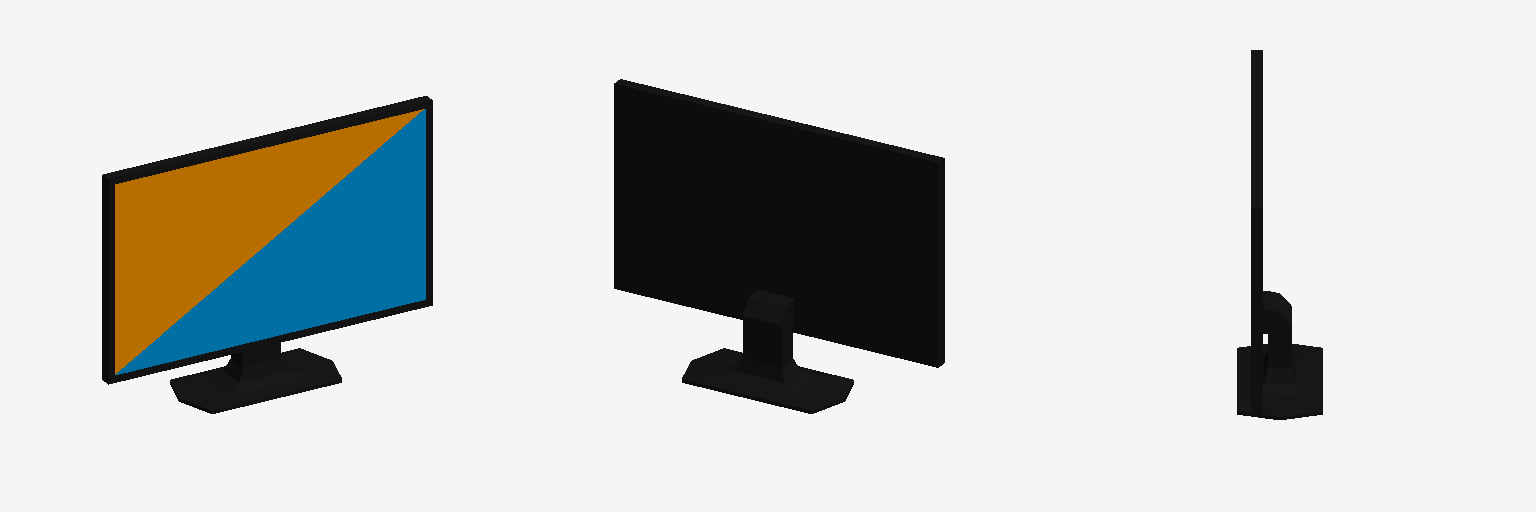
The model's file is Monitor_01.obj.
The picture shows the model from 3 angles: view 1: azimuth 30°, elevation 25°; view 2: azimuth 150°, elevation 25°; view 3: azimuth 270°, elevation 25°; orthographic projection.
Visible parts, largest first — view 1: Monitor_01_Cube.042; view 2: Monitor_01_Cube.042; view 3: Monitor_01_Cube.042.
Part boxes in pixels (x1,y1,x2,y2): Monitor_01_Cube.042: (102, 96, 432, 413); Monitor_01_Cube.042: (614, 79, 944, 413); Monitor_01_Cube.042: (1237, 50, 1322, 419).
Size of the model in its own units: 13.07 by 9.79 by 2.97.